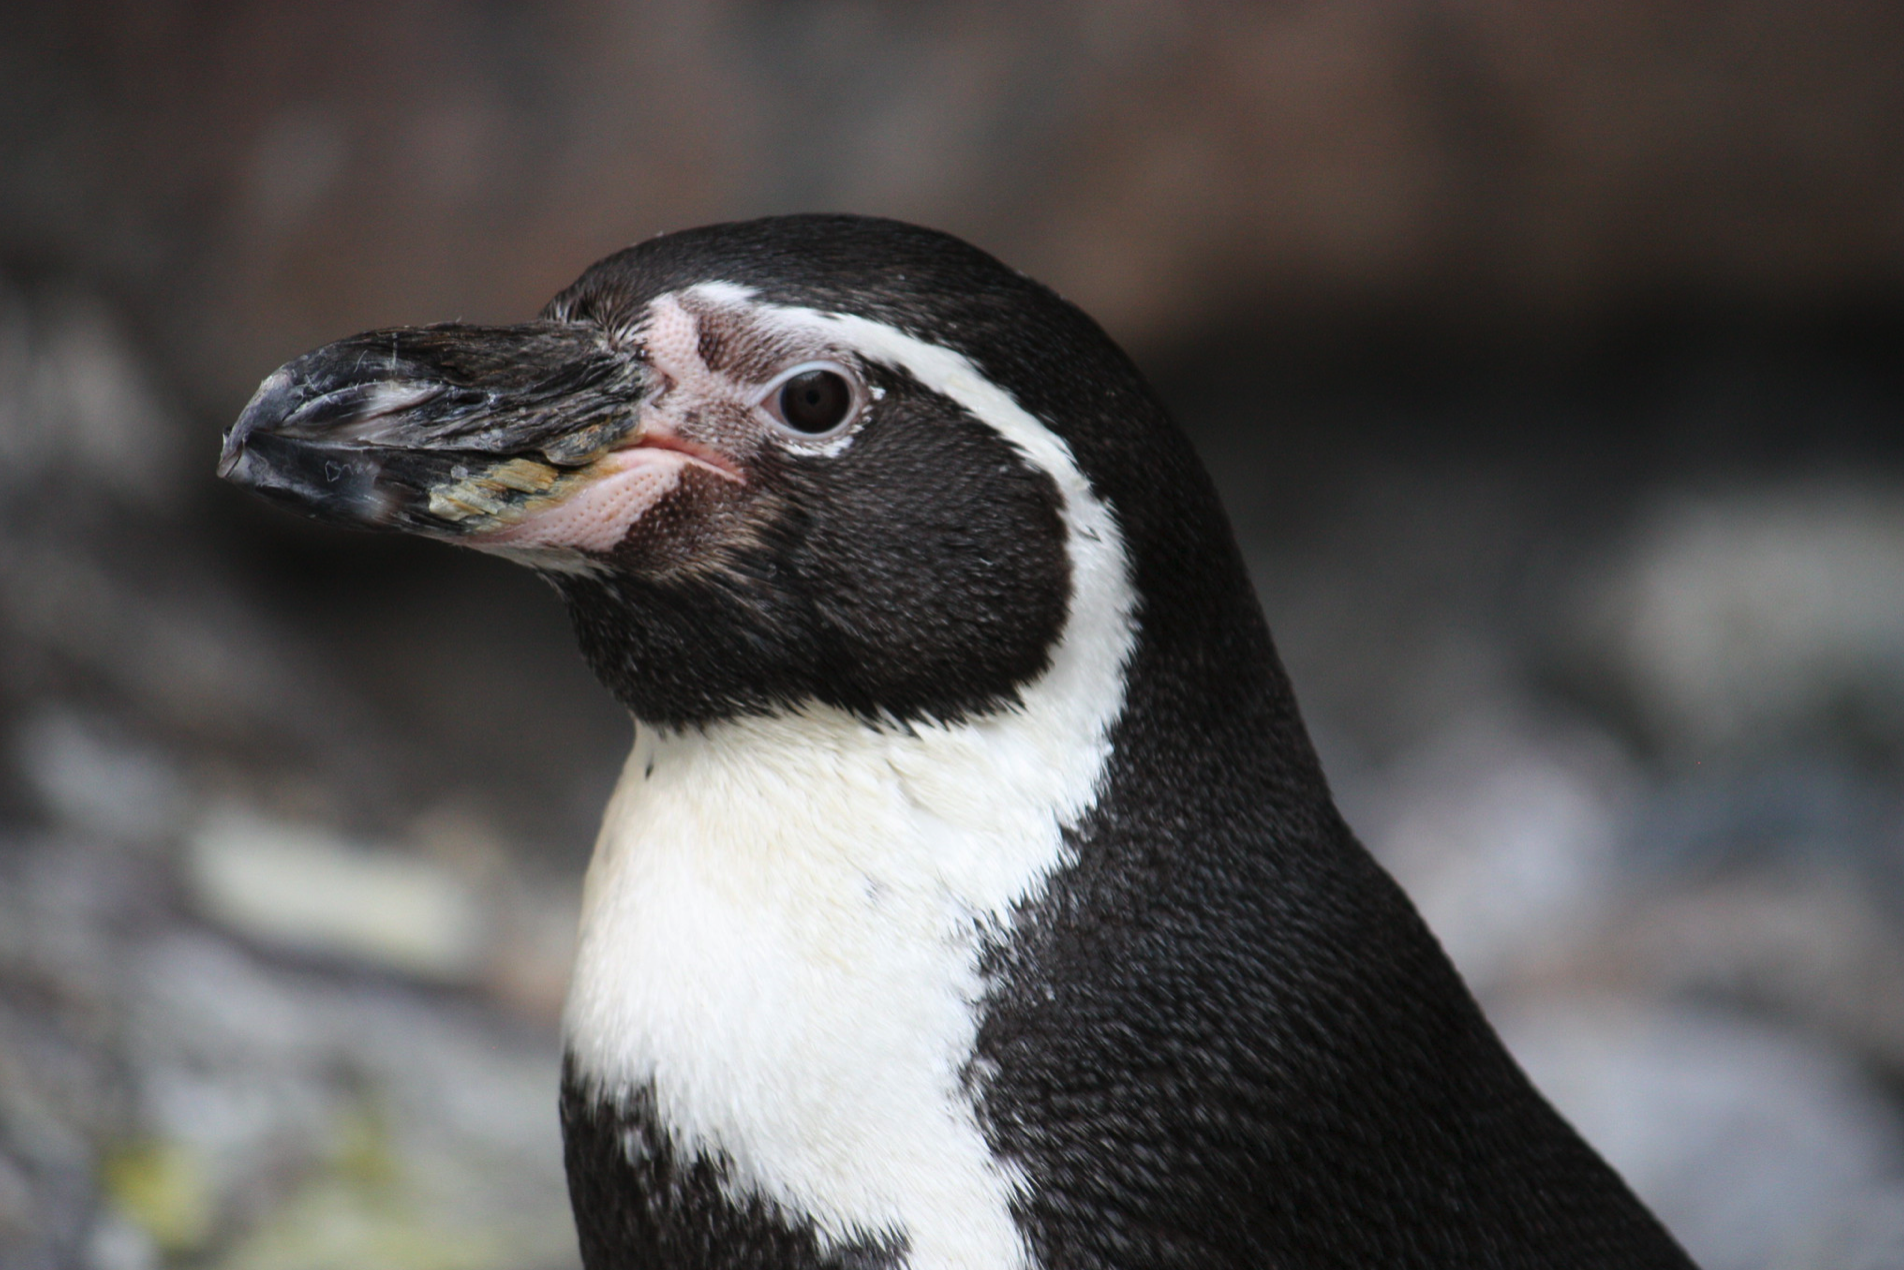penguin: (215, 203, 1700, 1270)
